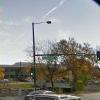Tree: (39, 34, 92, 81)
